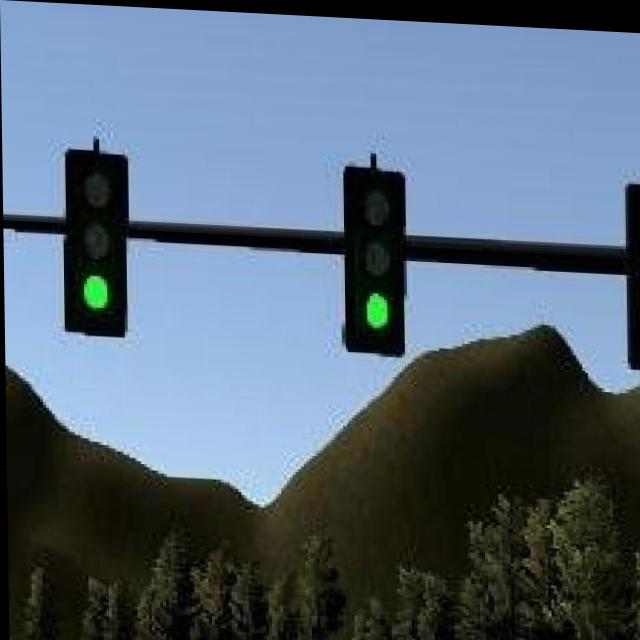green light: (342, 163, 407, 353), (65, 146, 127, 336)
